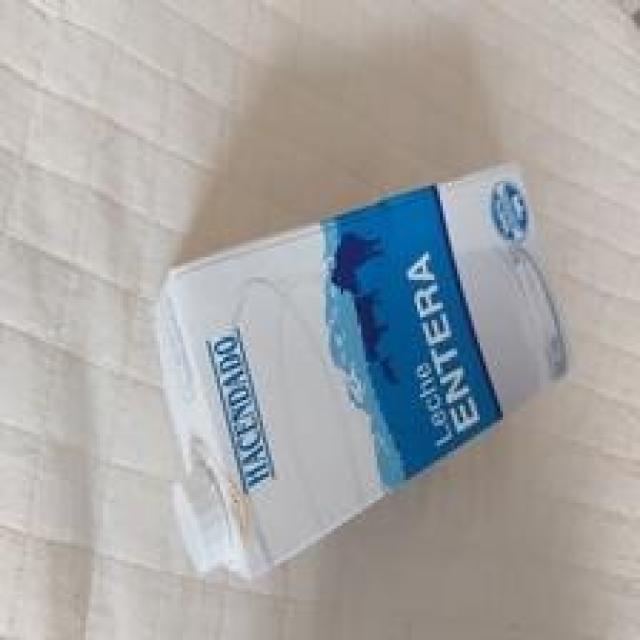PaperCardboard: (156, 159, 573, 584)
